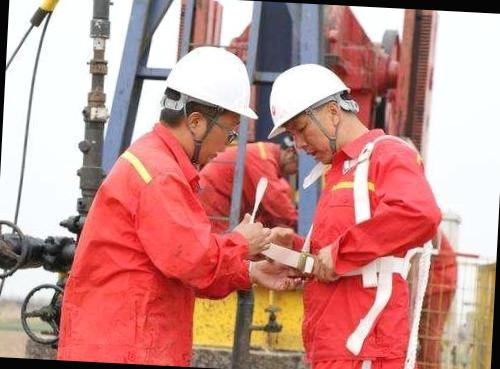helmet: (162, 41, 256, 116), (268, 58, 352, 127)
person: (50, 35, 269, 369), (253, 59, 449, 369)
